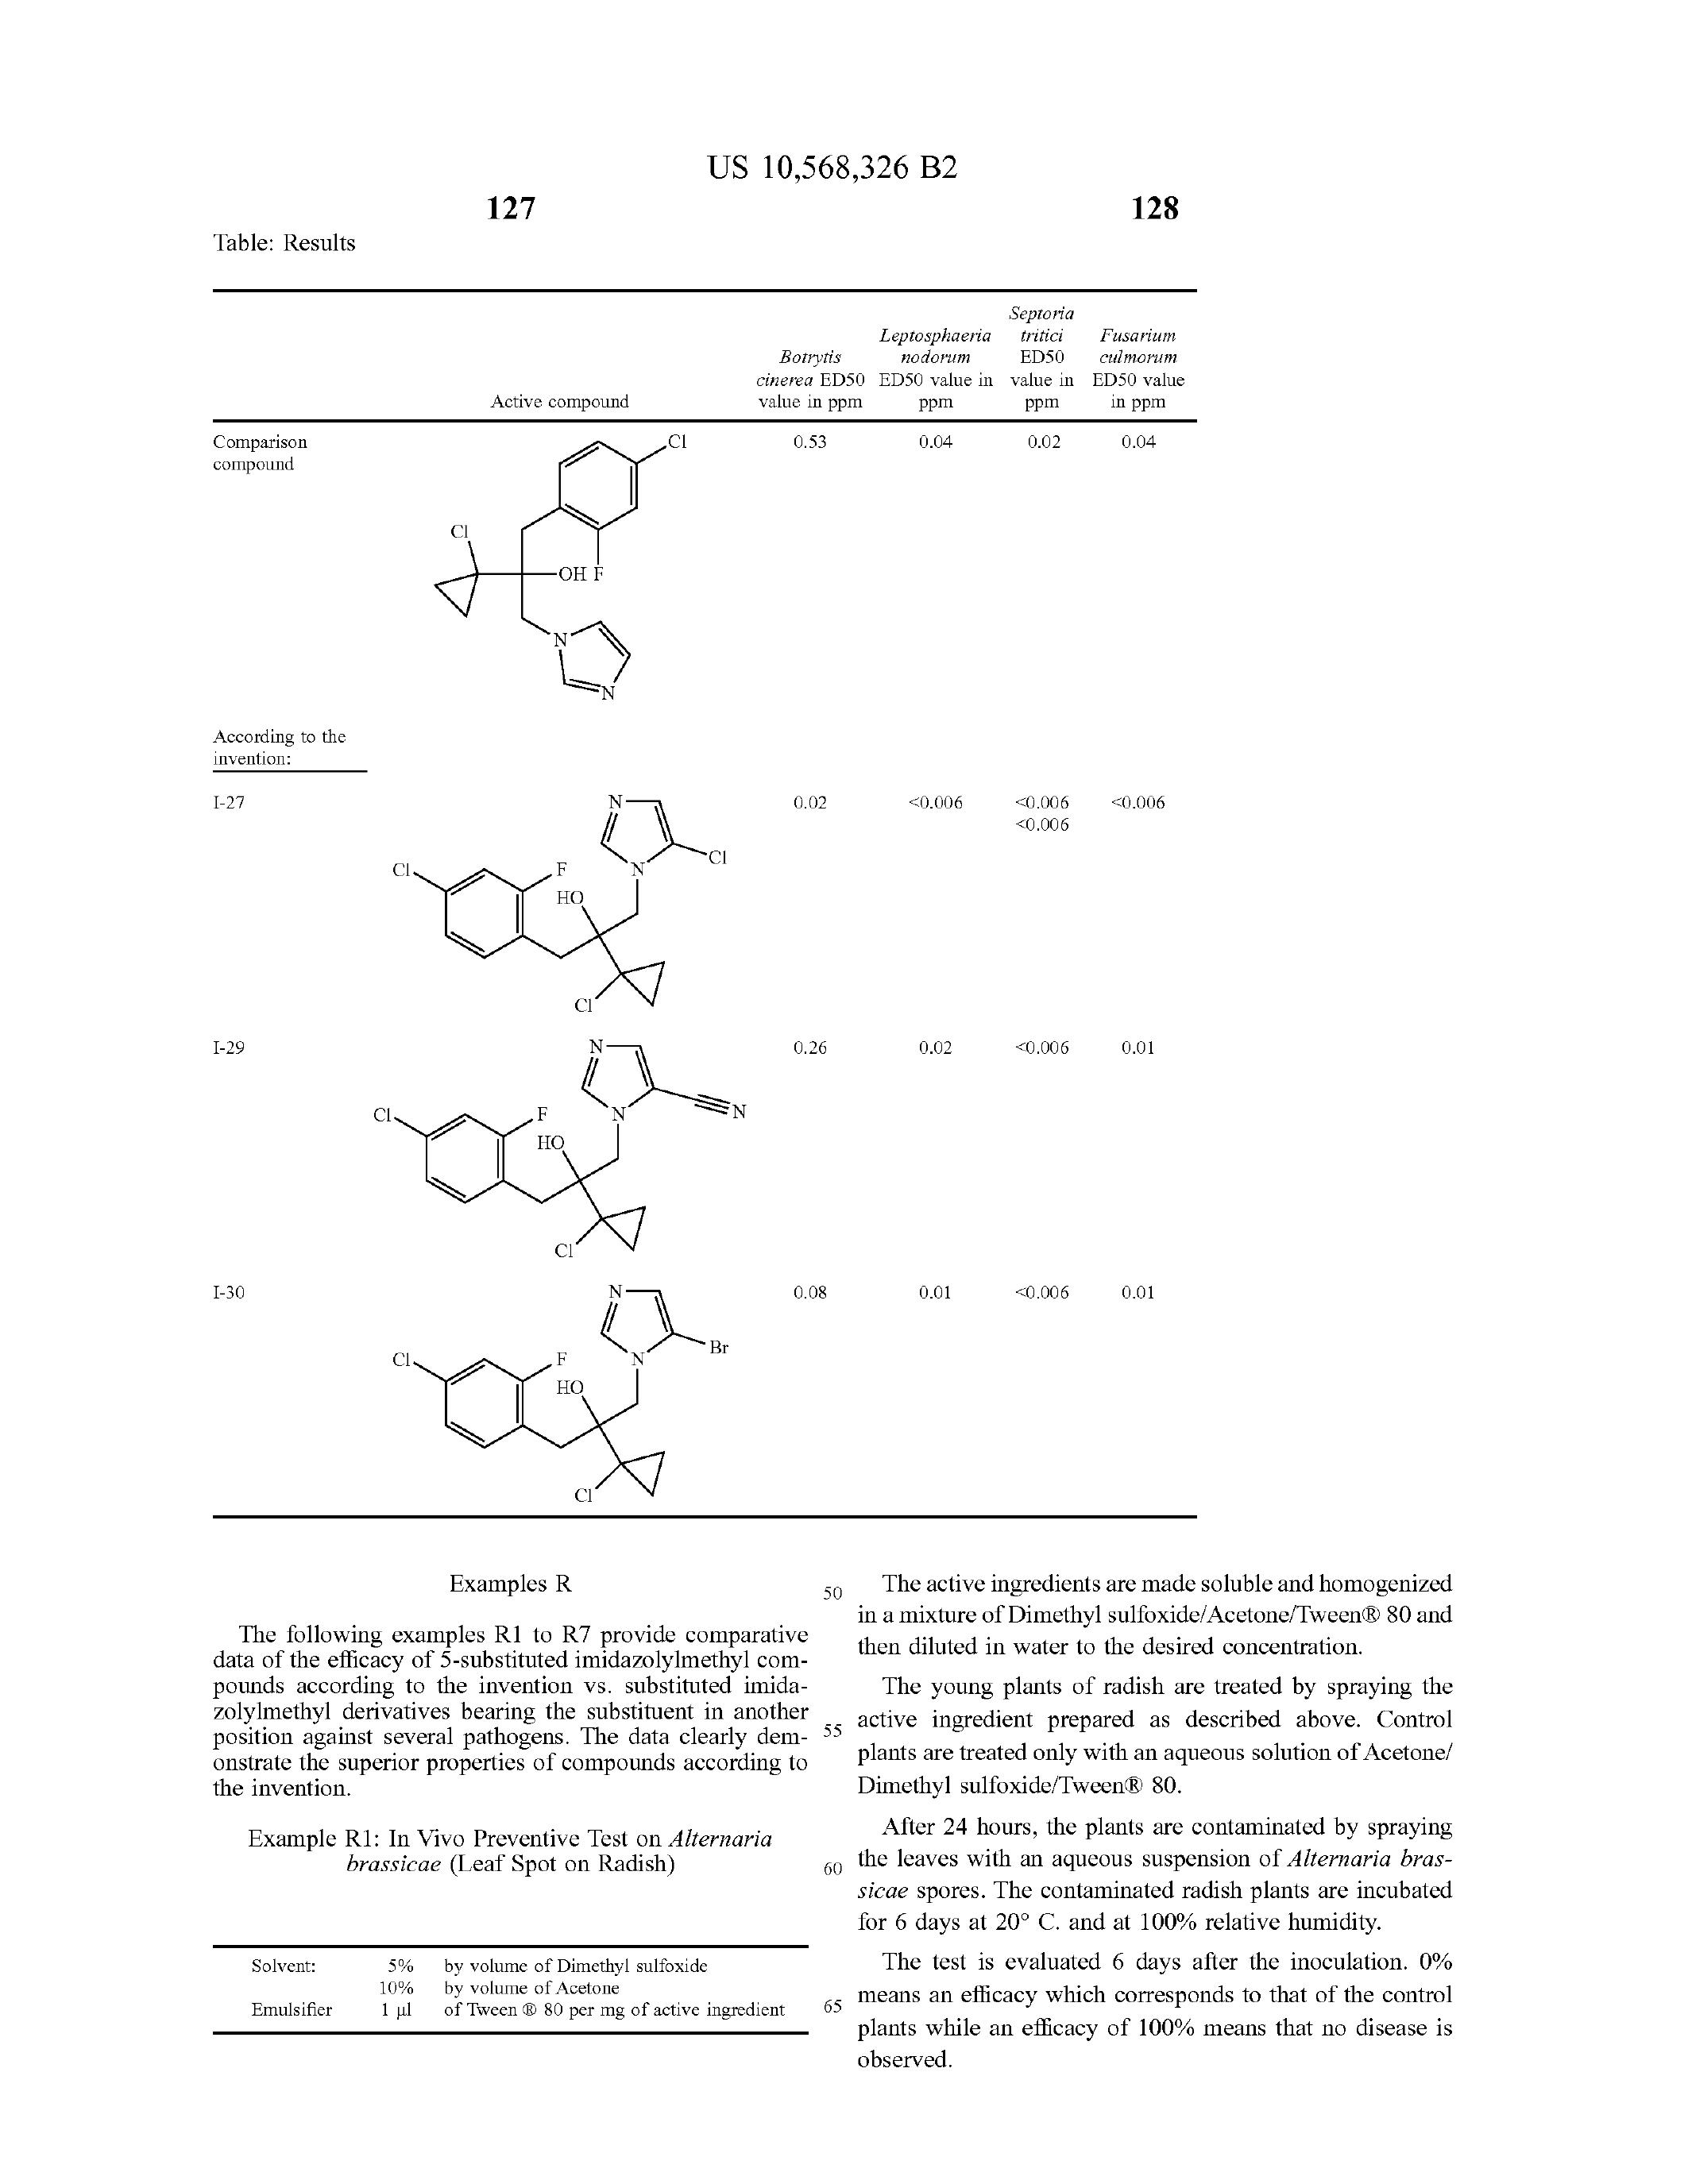relevant-structures: (381, 424, 766, 741), (321, 1037, 778, 1259), (356, 1287, 775, 1498), (388, 776, 739, 1016)
